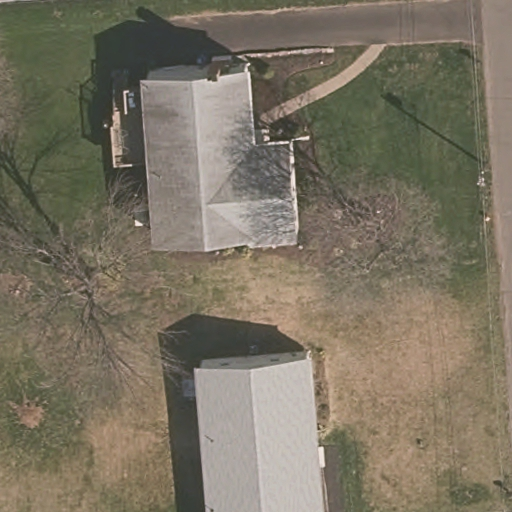DT: (470, 167, 492, 193)
